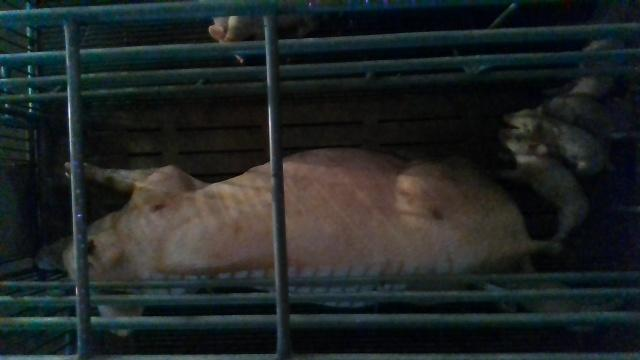piglet: (495, 127, 590, 244), (502, 103, 615, 175), (542, 95, 634, 142), (571, 37, 626, 96)
sow-sleep: (35, 145, 559, 338)
